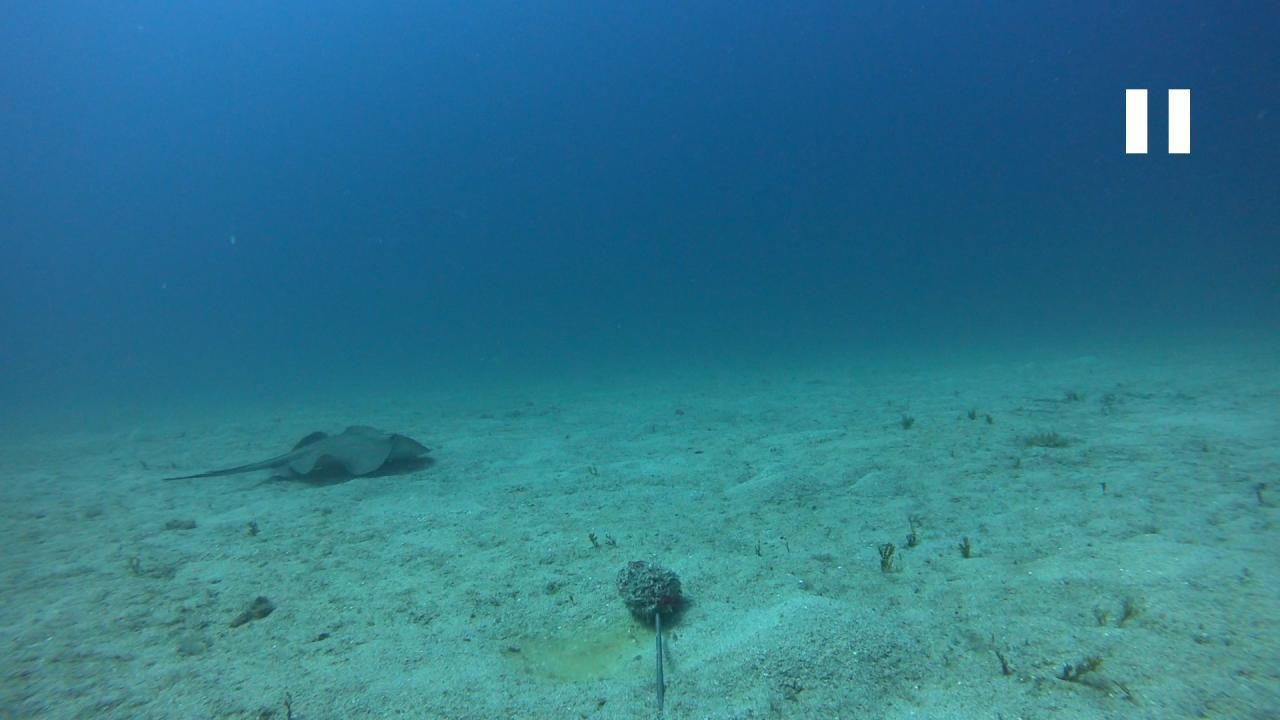dasyatis: (159, 422, 432, 480)
